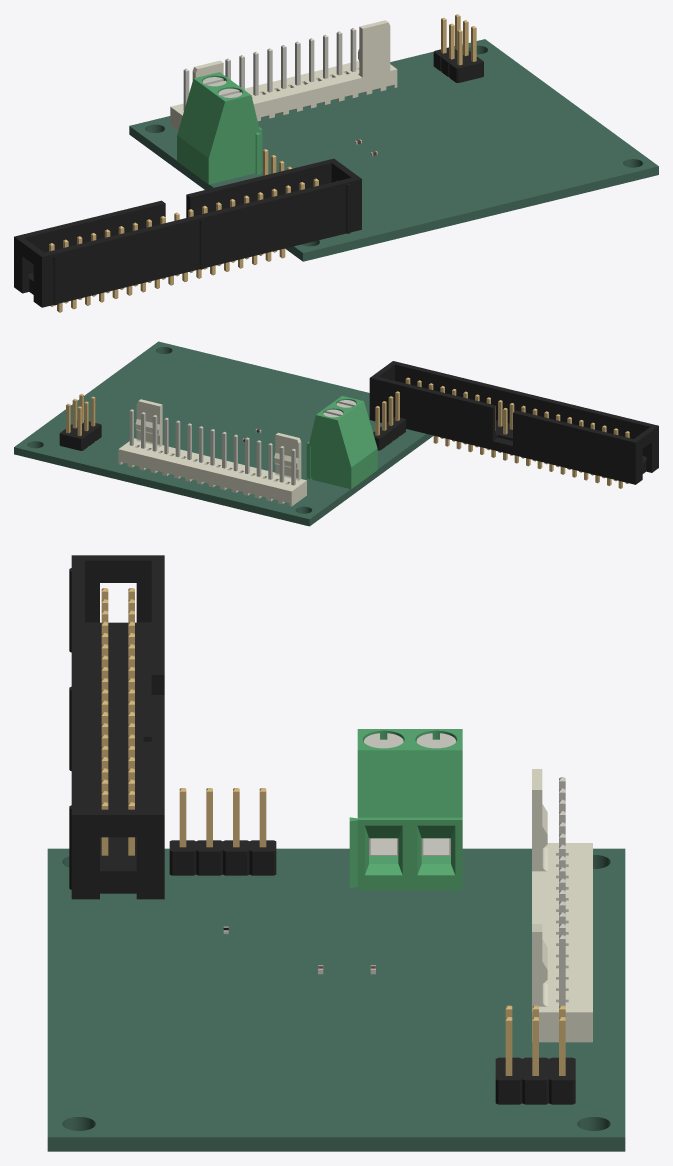
File: pitalk_pcb_3d.glb
3 renders of one model, top to bottom at view 1: azimuth 30°, elevation 25°; view 2: azimuth 150°, elevation 25°; view 3: azimuth 270°, elevation 25°, orthographic. The views are drawn at different scales.
Parts seen in each view (by area): view 1: =>[0:1:1:16], =>[0:1:1:3], =>[0:1:1:5], =>[0:1:1:9], =>[0:1:1:7]; view 2: =>[0:1:1:16], =>[0:1:1:3], =>[0:1:1:5], =>[0:1:1:9], =>[0:1:1:7], =>[0:1:1:11]; view 3: =>[0:1:1:16], =>[0:1:1:3], =>[0:1:1:9], =>[0:1:1:5], =>[0:1:1:11], =>[0:1:1:7].
Part boxes in pixels (bbox=[...]): =>[0:1:1:16]: bbox=[129, 39, 658, 261]; =>[0:1:1:3]: bbox=[14, 158, 361, 312]; =>[0:1:1:5]: bbox=[170, 20, 397, 130]; =>[0:1:1:9]: bbox=[177, 72, 262, 184]; =>[0:1:1:7]: bbox=[433, 14, 483, 82]; =>[0:1:1:16]: bbox=[14, 341, 433, 526]; =>[0:1:1:3]: bbox=[369, 361, 658, 488]; =>[0:1:1:5]: bbox=[118, 399, 306, 506]; =>[0:1:1:9]: bbox=[306, 396, 377, 489]; =>[0:1:1:7]: bbox=[59, 393, 101, 450]; =>[0:1:1:11]: bbox=[373, 391, 405, 450]; =>[0:1:1:16]: bbox=[47, 848, 625, 1151]; =>[0:1:1:3]: bbox=[69, 555, 164, 899]; =>[0:1:1:9]: bbox=[349, 729, 462, 890]; =>[0:1:1:5]: bbox=[532, 769, 592, 1042]; =>[0:1:1:11]: bbox=[169, 788, 276, 875]; =>[0:1:1:7]: bbox=[495, 1005, 575, 1104].
Size of the model in its own units: 0.1114 by 0.0174 by 0.055.
